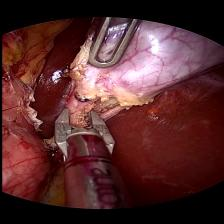Clipper: (46, 109, 120, 163)
Grasper: (82, 15, 140, 69)
